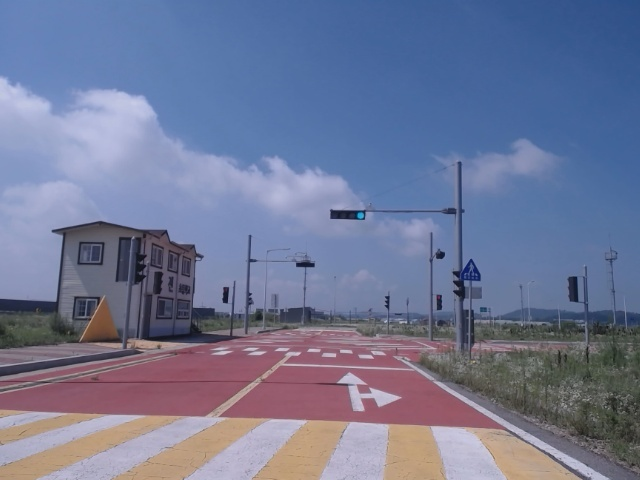straight_green_4: (330, 211, 365, 220)
